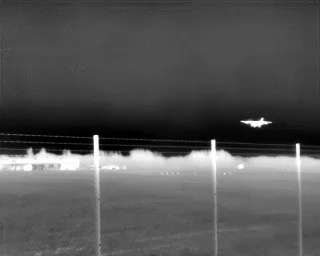AIRPLANE: (238, 115, 275, 130)
